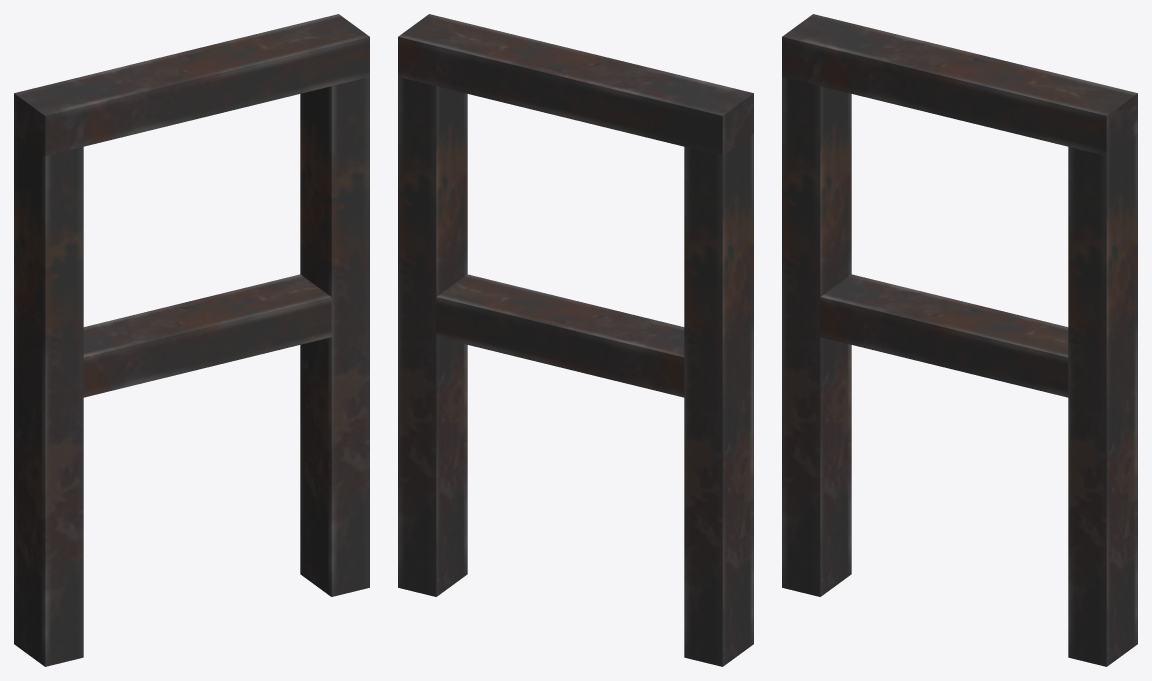
The model's file is pipe02_support01.fbx.
3 views of the same model, side by side, from view 1: azimuth 30°, elevation 25°; view 2: azimuth 150°, elevation 25°; view 3: azimuth 330°, elevation 25° (orthographic).
Parts seen in each view (by area): view 1: pipe02_support01; view 2: pipe02_support01; view 3: pipe02_support01.
Boxes of the visible parts, bbox=[...] form: pipe02_support01: bbox=[14, 14, 369, 666]; pipe02_support01: bbox=[398, 14, 753, 666]; pipe02_support01: bbox=[782, 14, 1137, 666].
Bounding box in the file's own units: 41.9 × 67.95 × 6.95.
